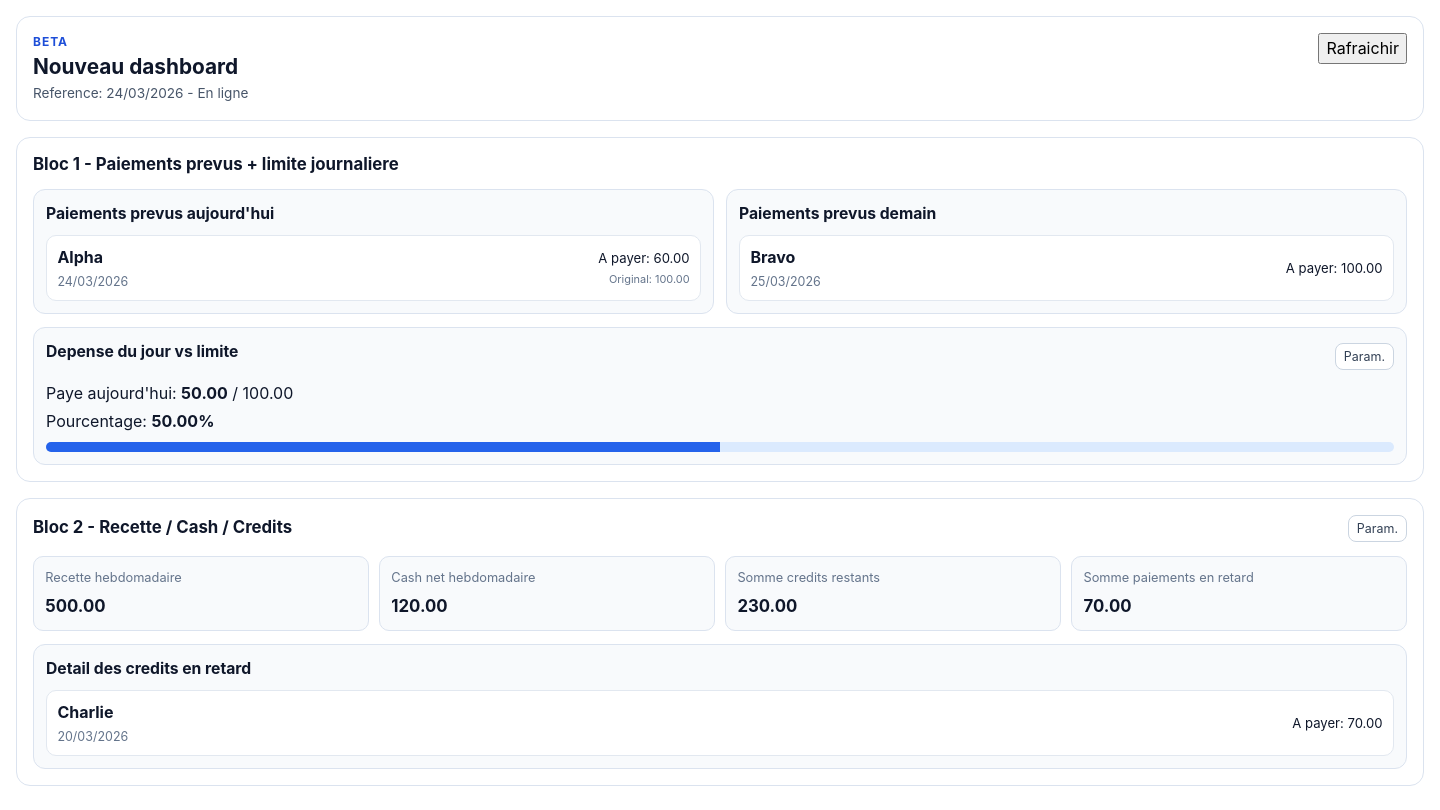
it: DashboardNext › opens payment modal when clicking a bloc 1 payment row
Check: the text "Alpha" is shown, box top-left (57, 246), bottom-right (103, 266)
Click the button "Alpha 24/03/2026 A payer: 60.00 Original: 100.00": (80, 257) top-left (47, 236), bottom-right (700, 300)
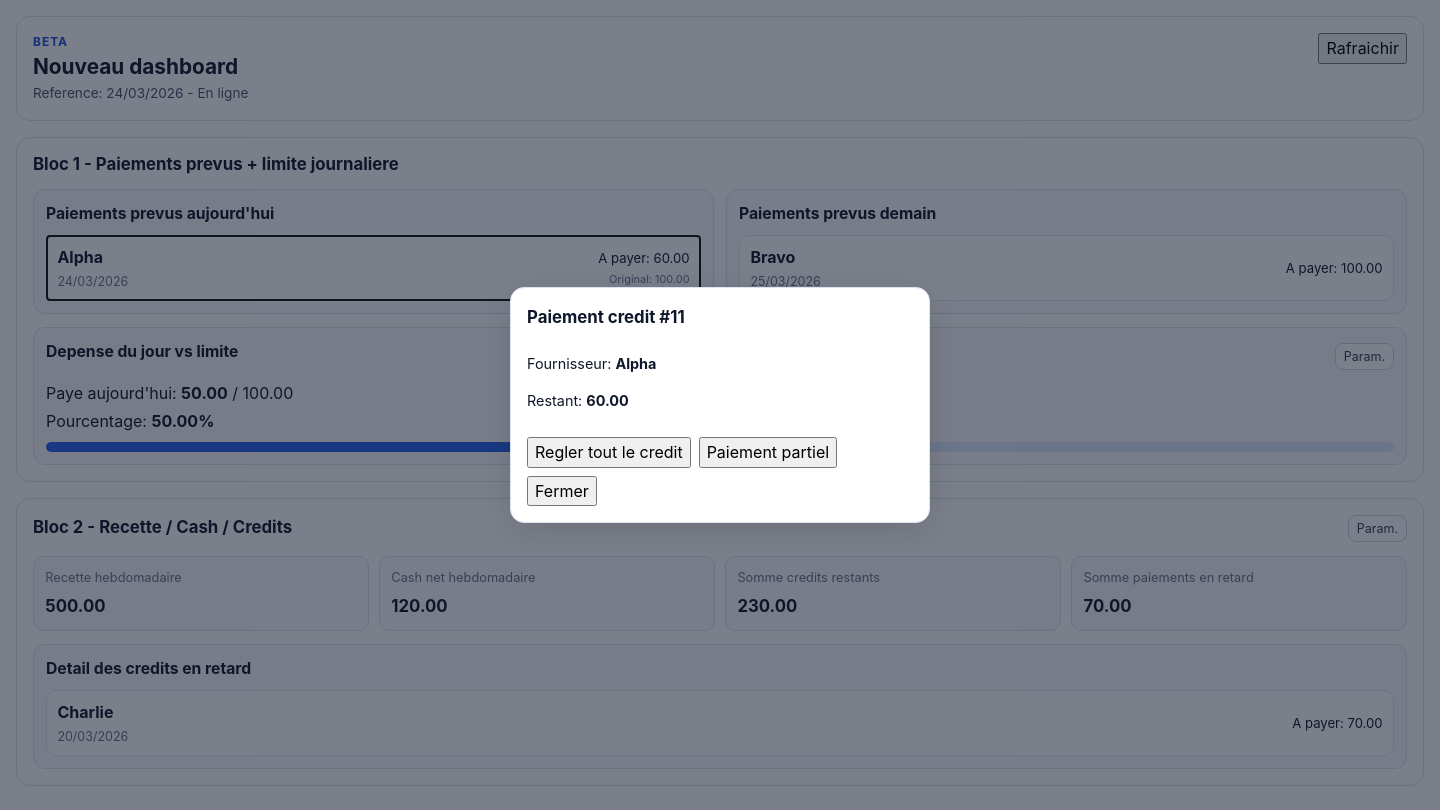
Check: the heading "Paiement credit #11" is shown, box top-left (527, 307), bottom-right (685, 327)
Check: the button "Regler tout le credit" is shown, box top-left (527, 437), bottom-right (691, 468)
Check: the button "Paiement partiel" is shown, box top-left (699, 437), bottom-right (837, 468)
